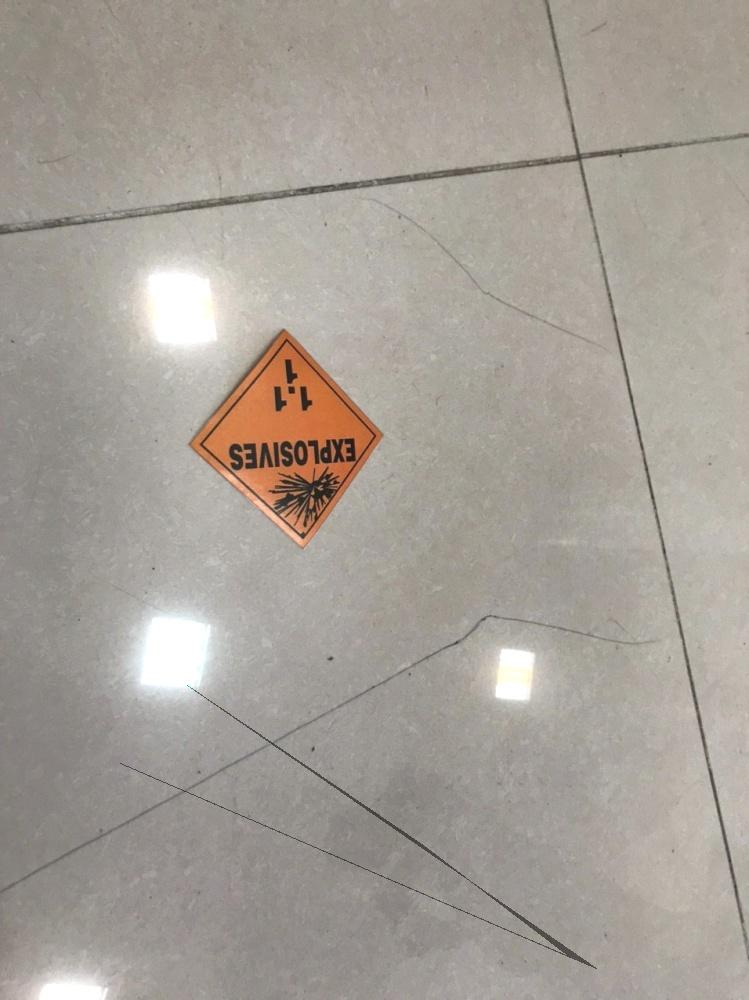explosive: (188, 330, 386, 541)
